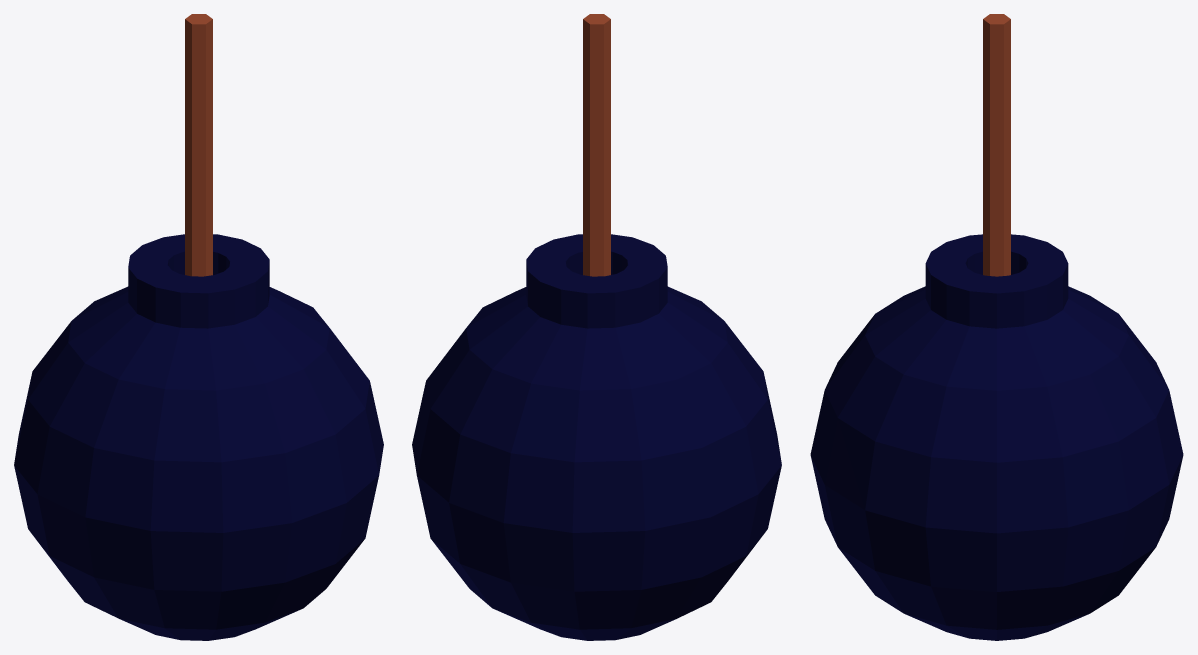
File: bomb.obj
3 renders of one model, left to right at view 1: azimuth 30°, elevation 25°; view 2: azimuth 150°, elevation 25°; view 3: azimuth 270°, elevation 25°, orthographic.
Visible parts, largest first — view 1: Sword.005, Sword; view 2: Sword.005, Sword; view 3: Sword.005, Sword.
Boxes of the visible parts, left/top/right/bottom form: Sword.005: left=14, top=234, right=383, bottom=640; Sword: left=185, top=14, right=212, bottom=276; Sword.005: left=412, top=234, right=781, bottom=640; Sword: left=583, top=14, right=610, bottom=276; Sword.005: left=810, top=234, right=1183, bottom=640; Sword: left=983, top=14, right=1010, bottom=276.
Bounding box in the file's own units: 1.35 × 2.41 × 1.35.
